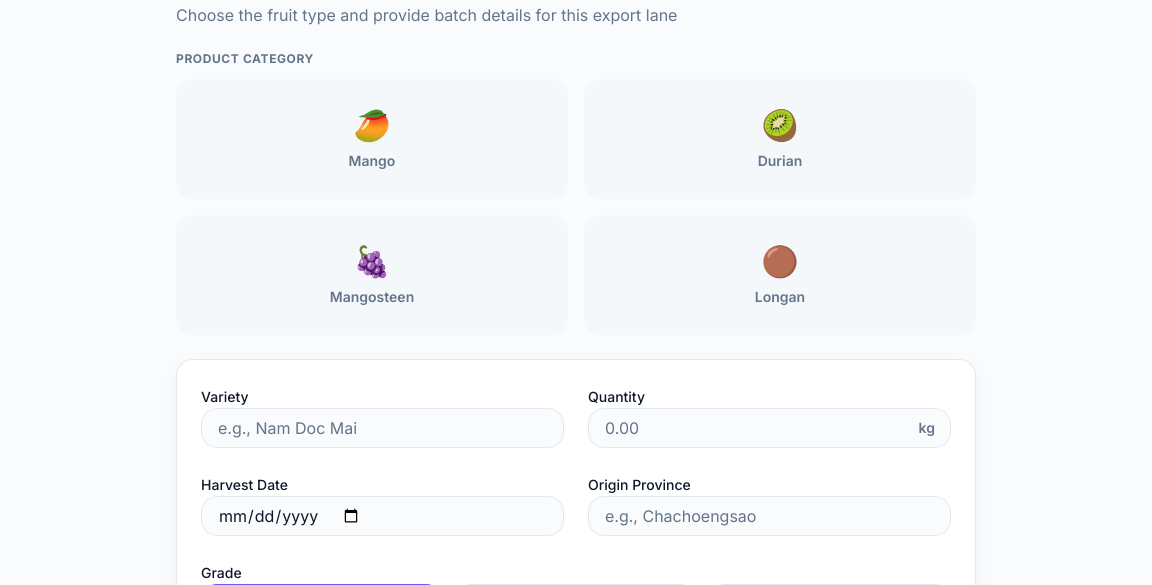
Scenario: LaneCreationWizard › renders market cards on step 1 with strictness badges
# Select product then navigate to step 1
Click the button with test id "product-card-MANGO": (372, 139) [176,79,568,199]
(page scrolled)
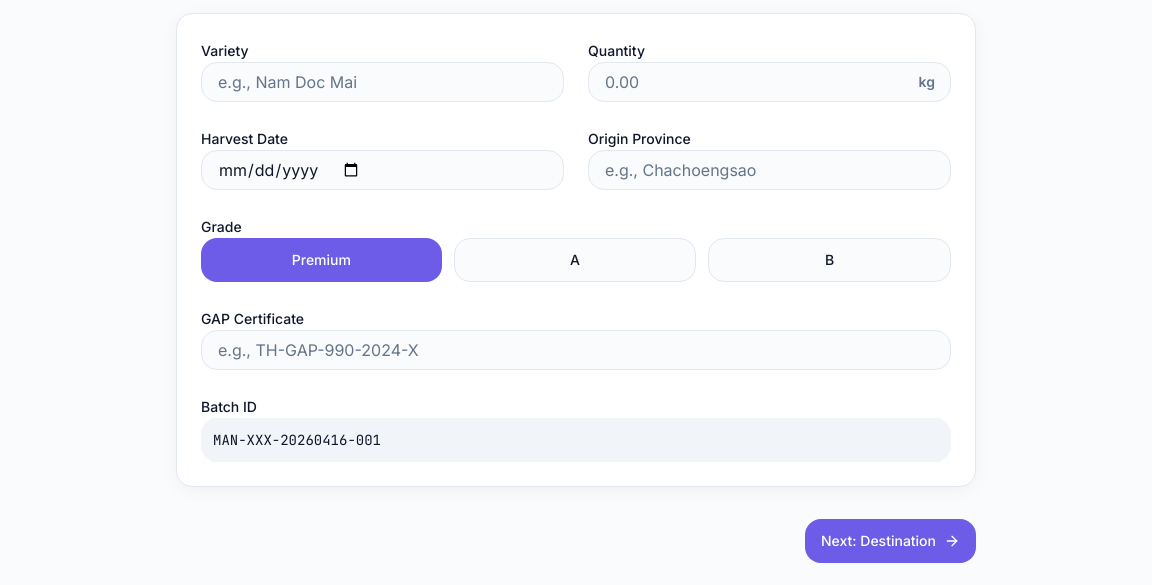
Click the button "Next: Destination": (890, 541) [805,519,976,563]
(page scrolled)
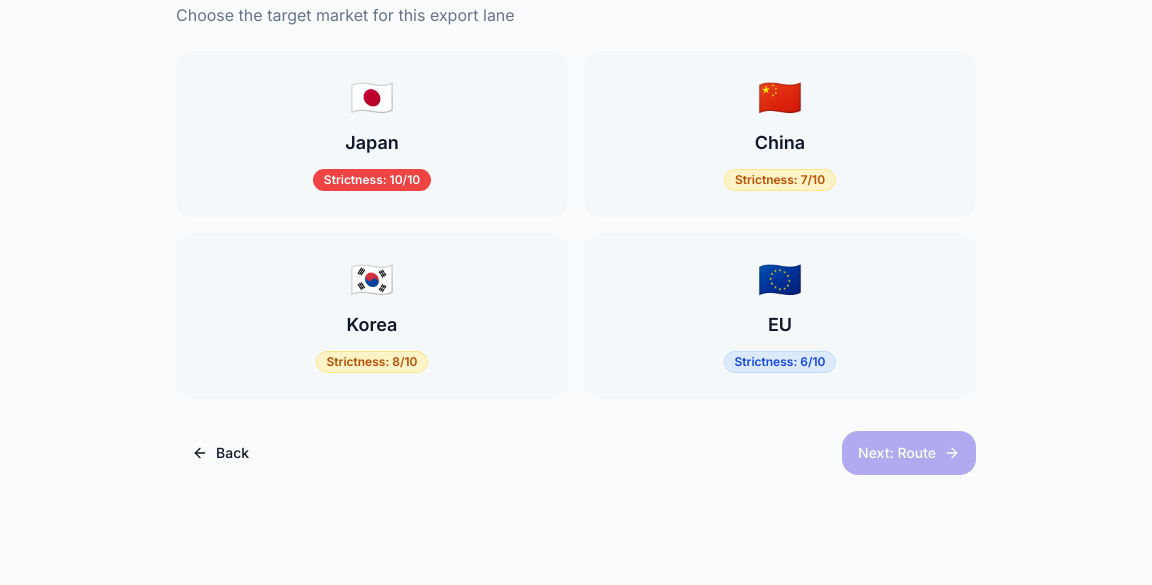
Expected: the button with test id "market-card-JAPAN" is shown, [176,51,568,217]
Expected: the button with test id "market-card-CHINA" is shown, [584,51,976,217]
Expected: the button with test id "market-card-KOREA" is shown, [176,233,568,399]
